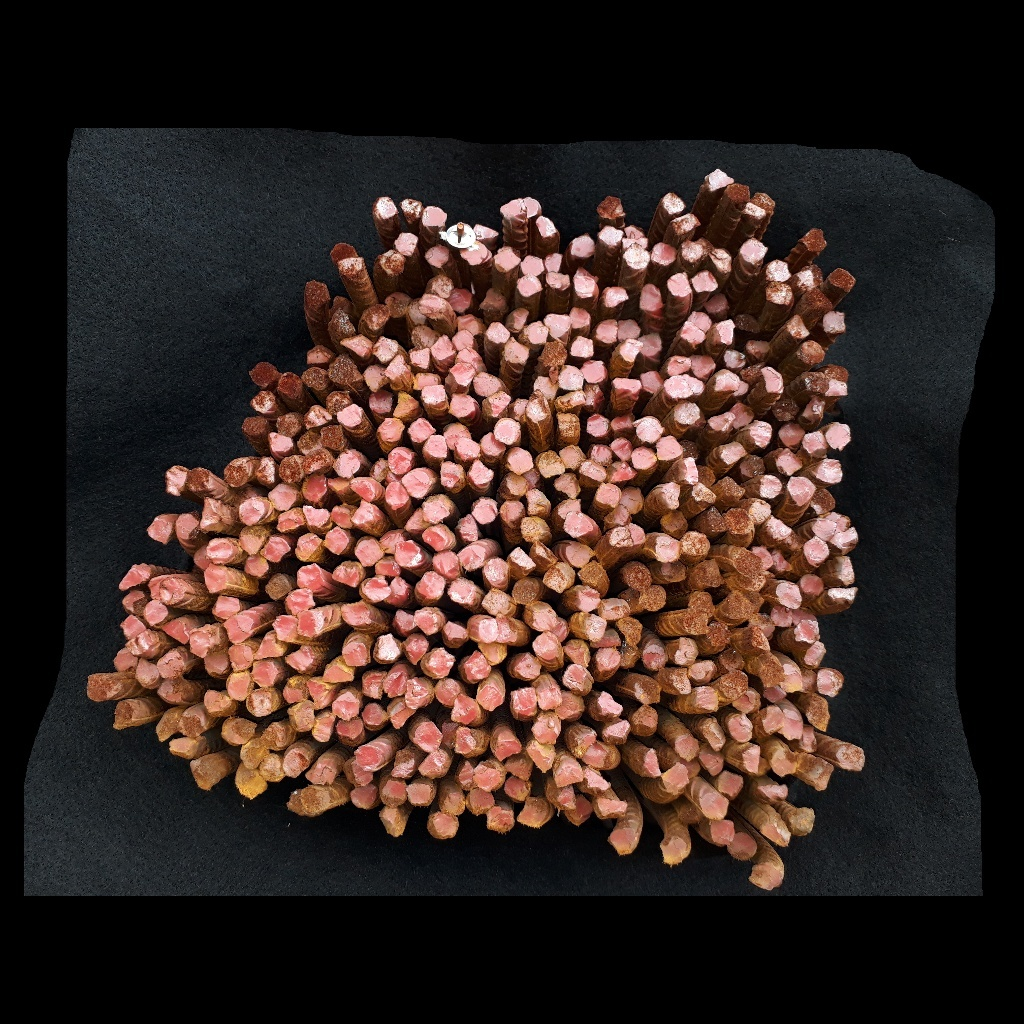dipstick: (191, 759, 221, 791), (191, 626, 221, 657), (330, 355, 361, 384), (423, 495, 454, 524), (224, 718, 258, 744), (423, 651, 455, 678), (414, 721, 442, 751), (158, 650, 186, 680), (419, 752, 450, 779), (295, 533, 323, 562), (631, 705, 658, 735), (751, 864, 782, 890), (119, 564, 150, 590), (563, 512, 594, 538), (594, 693, 622, 721), (353, 502, 381, 530), (808, 698, 831, 731), (729, 832, 756, 860), (564, 666, 592, 693), (563, 638, 590, 666), (481, 588, 509, 615), (160, 578, 189, 604), (224, 458, 250, 487), (772, 747, 797, 777), (379, 807, 404, 837), (427, 815, 458, 839), (156, 710, 180, 741), (200, 498, 224, 529), (635, 416, 662, 443), (333, 451, 360, 478), (445, 422, 472, 449), (403, 471, 430, 498), (434, 551, 461, 578), (511, 689, 537, 717), (273, 614, 299, 642), (517, 800, 546, 825), (416, 573, 445, 598), (536, 450, 565, 475), (113, 700, 136, 731), (158, 679, 190, 701), (683, 532, 710, 558), (764, 822, 791, 848), (557, 695, 584, 721), (238, 771, 264, 798), (283, 678, 309, 705), (247, 690, 274, 716), (252, 661, 278, 688), (250, 362, 277, 388), (356, 539, 382, 566), (460, 546, 486, 573), (828, 266, 856, 291), (787, 477, 815, 502), (379, 781, 407, 806), (255, 634, 283, 659), (270, 485, 298, 510), (811, 761, 835, 790), (307, 762, 336, 786), (224, 617, 253, 641), (296, 564, 325, 588), (291, 703, 314, 733), (726, 508, 752, 534), (720, 672, 746, 698), (242, 741, 268, 767), (180, 711, 206, 737), (507, 447, 533, 473), (699, 560, 724, 587), (838, 746, 865, 771), (493, 733, 520, 758), (639, 586, 666, 611), (566, 542, 594, 566), (582, 770, 611, 793), (393, 750, 415, 780), (777, 582, 802, 608), (605, 720, 631, 745), (474, 765, 500, 790), (454, 697, 480, 722), (417, 609, 442, 635), (364, 304, 390, 329), (363, 578, 389, 603), (424, 524, 449, 550), (449, 578, 474, 604), (555, 473, 581, 498), (664, 764, 688, 791), (663, 836, 687, 863), (618, 617, 642, 644), (230, 645, 254, 672), (342, 602, 369, 626), (529, 744, 552, 772), (136, 659, 159, 687), (621, 486, 644, 514), (462, 242, 491, 264), (342, 337, 371, 359), (556, 389, 585, 411), (464, 653, 489, 678), (334, 693, 359, 718), (494, 247, 520, 271), (812, 488, 836, 514), (634, 681, 660, 705), (148, 517, 172, 543), (264, 537, 290, 561), (373, 336, 397, 362), (334, 562, 360, 586), (520, 517, 546, 541), (512, 579, 538, 603), (775, 452, 802, 475), (735, 552, 762, 575), (725, 595, 752, 618), (701, 795, 728, 818), (228, 672, 251, 699), (279, 372, 302, 399), (304, 451, 331, 474), (303, 476, 326, 503), (421, 295, 448, 318), (675, 637, 697, 665), (261, 755, 283, 783), (302, 505, 330, 527), (681, 322, 706, 346), (827, 425, 851, 450), (791, 808, 815, 833), (611, 830, 636, 854), (544, 566, 568, 591), (407, 783, 432, 807), (304, 789, 329, 813), (205, 566, 229, 591), (210, 539, 235, 563), (250, 391, 275, 415), (469, 461, 494, 485), (325, 529, 349, 554), (396, 542, 421, 566), (298, 612, 322, 637), (511, 547, 535, 572), (817, 670, 840, 696), (406, 679, 429, 705), (288, 589, 314, 612), (441, 462, 464, 488), (342, 643, 368, 666), (474, 497, 497, 523), (766, 283, 793, 305), (717, 476, 744, 498), (668, 668, 690, 695), (534, 718, 556, 745), (287, 648, 314, 670), (485, 558, 507, 585), (169, 739, 200, 758), (211, 596, 239, 617), (758, 780, 787, 800), (130, 634, 159, 654), (742, 240, 766, 264), (781, 422, 805, 446), (380, 419, 404, 443), (351, 478, 375, 502), (409, 418, 433, 442), (500, 499, 524, 523), (674, 401, 699, 424), (805, 538, 828, 563), (685, 609, 708, 634), (675, 735, 698, 760), (489, 808, 512, 833), (535, 632, 558, 657), (437, 678, 460, 703), (240, 498, 263, 523), (321, 426, 346, 449), (305, 280, 330, 303), (381, 251, 404, 276), (557, 413, 580, 438), (639, 284, 661, 310), (730, 717, 752, 743), (395, 393, 417, 419), (279, 458, 301, 484), (375, 196, 397, 222), (542, 343, 568, 365), (495, 421, 521, 443), (833, 528, 860, 549), (379, 634, 400, 661), (458, 514, 478, 542), (596, 798, 627, 816), (818, 460, 842, 483), (658, 437, 682, 460), (478, 686, 502, 709), (267, 574, 290, 598), (240, 533, 263, 557), (339, 404, 363, 427), (425, 244, 449, 267), (597, 483, 621, 506), (718, 773, 743, 795), (471, 617, 493, 642), (390, 703, 412, 728), (357, 748, 382, 770), (285, 752, 307, 777), (188, 467, 210, 492), (505, 342, 530, 364), (598, 197, 624, 218), (773, 399, 799, 420), (665, 376, 691, 397), (556, 764, 582, 785), (467, 791, 493, 812), (204, 691, 230, 712), (176, 513, 197, 539), (389, 449, 410, 475), (321, 666, 353, 683), (679, 458, 699, 485), (314, 715, 334, 742), (421, 386, 448, 406), (386, 482, 406, 509), (276, 511, 304, 530), (256, 457, 275, 485), (483, 289, 506, 312), (769, 518, 792, 541), (656, 538, 679, 561), (585, 745, 608, 768), (577, 588, 600, 611), (123, 591, 146, 614), (304, 368, 327, 391), (387, 293, 410, 316), (560, 367, 583, 390), (804, 227, 826, 251), (766, 260, 790, 282), (800, 265, 822, 289), (571, 236, 595, 258), (691, 355, 715, 377), (800, 342, 824, 364), (795, 620, 819, 642), (643, 645, 665, 669), (517, 654, 541, 676), (444, 623, 466, 647), (369, 392, 393, 414), (475, 373, 499, 395), (587, 415, 611, 437), (561, 445, 583, 469), (627, 567, 651, 589), (751, 422, 772, 447), (703, 723, 724, 748), (569, 799, 590, 824), (429, 277, 454, 298), (581, 460, 606, 481), (662, 512, 688, 532), (763, 707, 783, 733), (456, 727, 476, 753), (167, 466, 187, 492), (804, 291, 831, 310), (764, 367, 783, 394), (406, 637, 425, 664), (640, 333, 662, 356), (711, 821, 733, 844), (113, 651, 136, 673), (144, 601, 166, 624), (298, 432, 321, 454), (395, 233, 417, 256), (693, 271, 717, 292), (625, 248, 649, 269), (597, 318, 618, 342), (784, 712, 802, 740), (698, 687, 719, 711), (352, 786, 376, 807), (440, 793, 464, 814), (263, 725, 284, 749), (276, 414, 300, 435), (366, 366, 387, 390), (433, 337, 454, 361), (411, 326, 435, 347), (451, 396, 475, 417), (390, 577, 408, 605), (528, 491, 549, 515), (740, 456, 765, 476), (550, 788, 575, 808), (585, 617, 605, 642), (752, 626, 771, 652), (479, 643, 505, 662), (305, 409, 331, 428), (454, 288, 473, 314), (602, 600, 629, 618), (497, 615, 515, 642), (662, 192, 684, 214), (669, 274, 691, 296), (574, 275, 596, 297), (640, 371, 662, 393), (708, 623, 730, 645), (596, 648, 618, 670), (205, 653, 227, 675), (400, 199, 422, 221), (823, 311, 846, 332), (547, 315, 570, 336), (571, 336, 594, 357), (760, 474, 781, 497), (805, 642, 826, 665), (539, 687, 560, 710), (245, 556, 268, 577), (452, 364, 475, 385), (533, 541, 556, 562), (736, 315, 760, 335), (518, 277, 542, 297), (632, 449, 656, 469), (762, 663, 782, 687), (662, 562, 686, 582), (690, 660, 714, 680), (507, 778, 531, 798), (458, 315, 482, 335), (486, 322, 510, 342), (456, 440, 480, 460), (363, 704, 387, 724), (612, 437, 632, 461), (578, 564, 602, 584), (671, 215, 699, 232), (743, 745, 760, 773), (507, 760, 532, 779), (364, 673, 383, 698), (545, 272, 571, 290), (719, 443, 745, 461), (609, 463, 635, 481), (645, 749, 661, 778), (537, 216, 558, 238), (583, 361, 604, 383), (731, 405, 753, 426), (801, 574, 823, 595), (720, 649, 742, 670), (700, 753, 722, 774), (307, 679, 328, 701), (123, 617, 145, 638), (536, 377, 558, 398), (527, 398, 548, 420), (506, 473, 527, 495), (653, 244, 676, 264), (599, 226, 622, 246), (521, 256, 544, 276), (527, 322, 547, 345), (750, 499, 770, 522), (327, 392, 350, 412), (332, 506, 352, 529), (593, 631, 620, 648), (715, 371, 739, 390), (490, 393, 509, 417), (338, 720, 362, 739), (609, 528, 633, 547), (707, 507, 725, 532), (307, 346, 332, 364), (664, 483, 680, 511), (838, 558, 855, 584), (804, 433, 825, 454), (772, 607, 793, 628), (789, 315, 809, 337), (680, 240, 702, 260), (747, 340, 769, 360), (533, 608, 555, 628), (386, 356, 406, 378), (426, 436, 446, 458), (424, 207, 446, 227), (590, 444, 612, 464), (604, 288, 627, 307), (773, 550, 792, 573), (452, 330, 475, 349), (385, 673, 404, 696), (693, 486, 717, 504), (782, 669, 800, 693), (331, 242, 358, 258), (803, 396, 823, 417), (813, 519, 834, 539), (751, 613, 772, 633), (459, 761, 474, 789), (394, 611, 415, 631), (668, 357, 690, 376), (333, 313, 355, 332), (405, 508, 424, 530), (709, 170, 732, 188), (268, 434, 292, 451), (459, 348, 483, 365), (473, 225, 500, 240), (413, 373, 440, 388), (570, 308, 590, 328), (621, 340, 641, 360), (410, 348, 430, 368), (605, 508, 630, 524), (733, 693, 754, 712), (712, 249, 730, 271), (689, 311, 711, 329), (586, 385, 604, 407), (502, 199, 525, 216), (705, 295, 728, 312), (741, 574, 765, 590), (622, 645, 638, 669), (483, 435, 503, 454), (619, 320, 640, 338), (331, 295, 352, 313), (340, 258, 361, 276), (708, 414, 733, 429), (558, 499, 583, 514), (690, 591, 712, 608), (244, 416, 266, 433), (512, 399, 529, 421), (382, 533, 401, 552), (718, 319, 733, 343), (725, 350, 745, 368), (347, 771, 371, 786), (612, 415, 633, 432), (523, 195, 539, 217), (801, 730, 817, 752), (288, 790, 302, 815), (631, 523, 646, 546), (683, 374, 702, 392), (681, 439, 699, 458), (573, 735, 591, 754), (742, 365, 762, 382), (375, 562, 399, 576), (726, 185, 748, 200), (826, 365, 848, 380), (745, 204, 765, 220), (755, 193, 775, 209), (699, 466, 715, 486), (826, 380, 847, 395), (373, 459, 388, 480), (513, 308, 528, 329), (614, 378, 640, 390), (194, 546, 207, 570), (802, 669, 816, 691), (545, 253, 562, 271), (756, 547, 772, 566), (833, 514, 850, 531), (765, 688, 784, 703), (410, 298, 420, 326), (623, 237, 648, 248), (443, 722, 454, 747), (329, 479, 349, 492), (698, 238, 713, 255), (625, 225, 643, 237), (736, 384, 749, 396)
